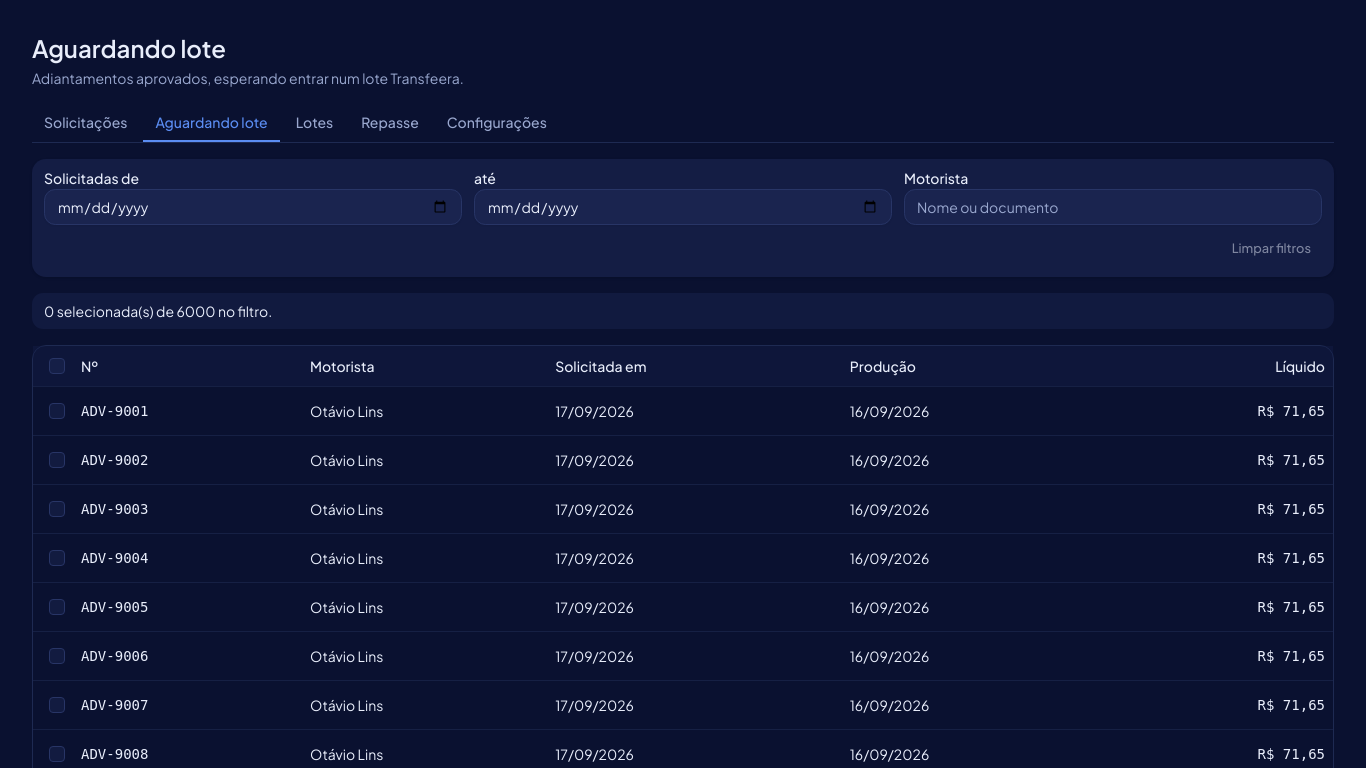
Test: AdiantamentosPagamentosPage › 7.6.1/edge #25: "selecionar todas do filtro" nunca ultrapassa 5.000 e avisa quando o filtro é maior
What coordinates should you click on to do the following:
click the checkbox named "Selecionar todas desta página"
I would click on:
 (57, 366)
Its box is [49,358,65,374].
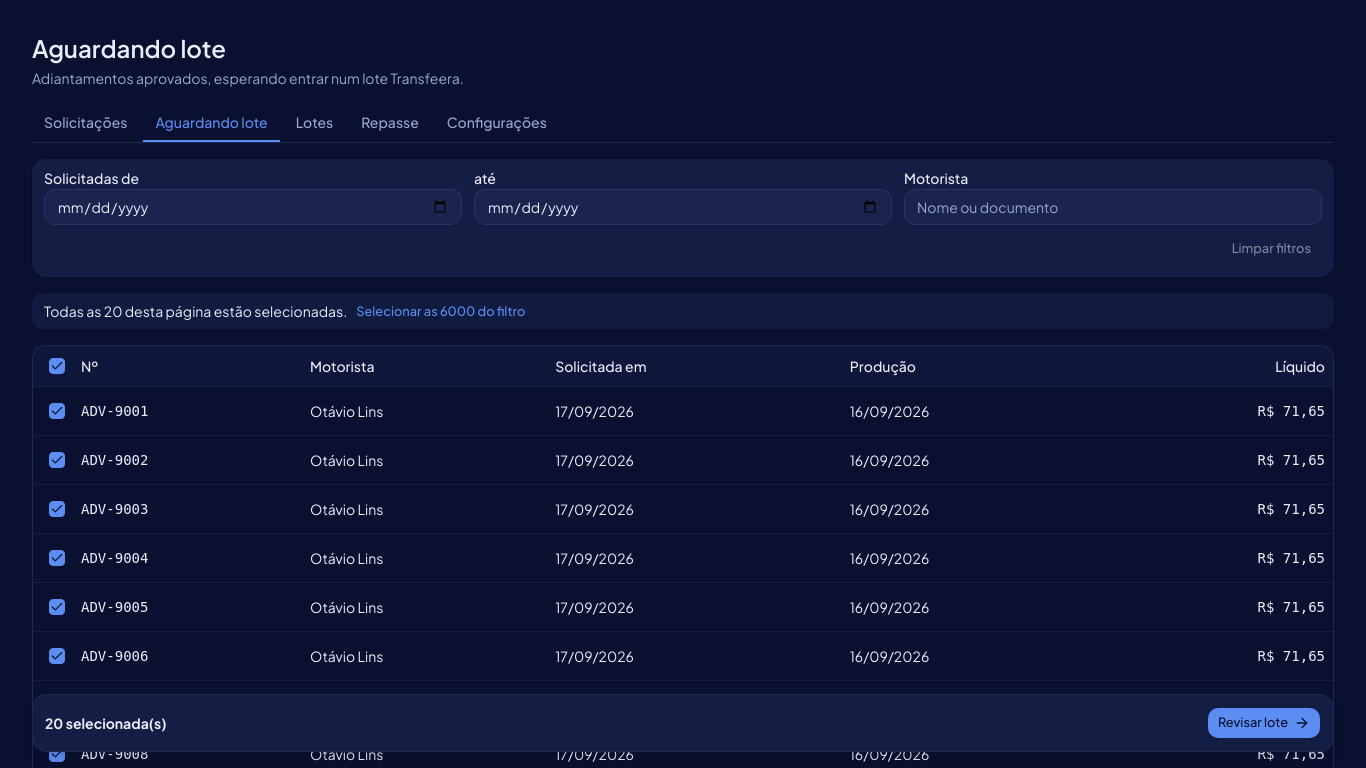
What coordinates should you click on to do the following:
click the button "Selecionar as 6000 do filtro"
I would click on:
 (441, 311)
Its box is [355,301,526,321].
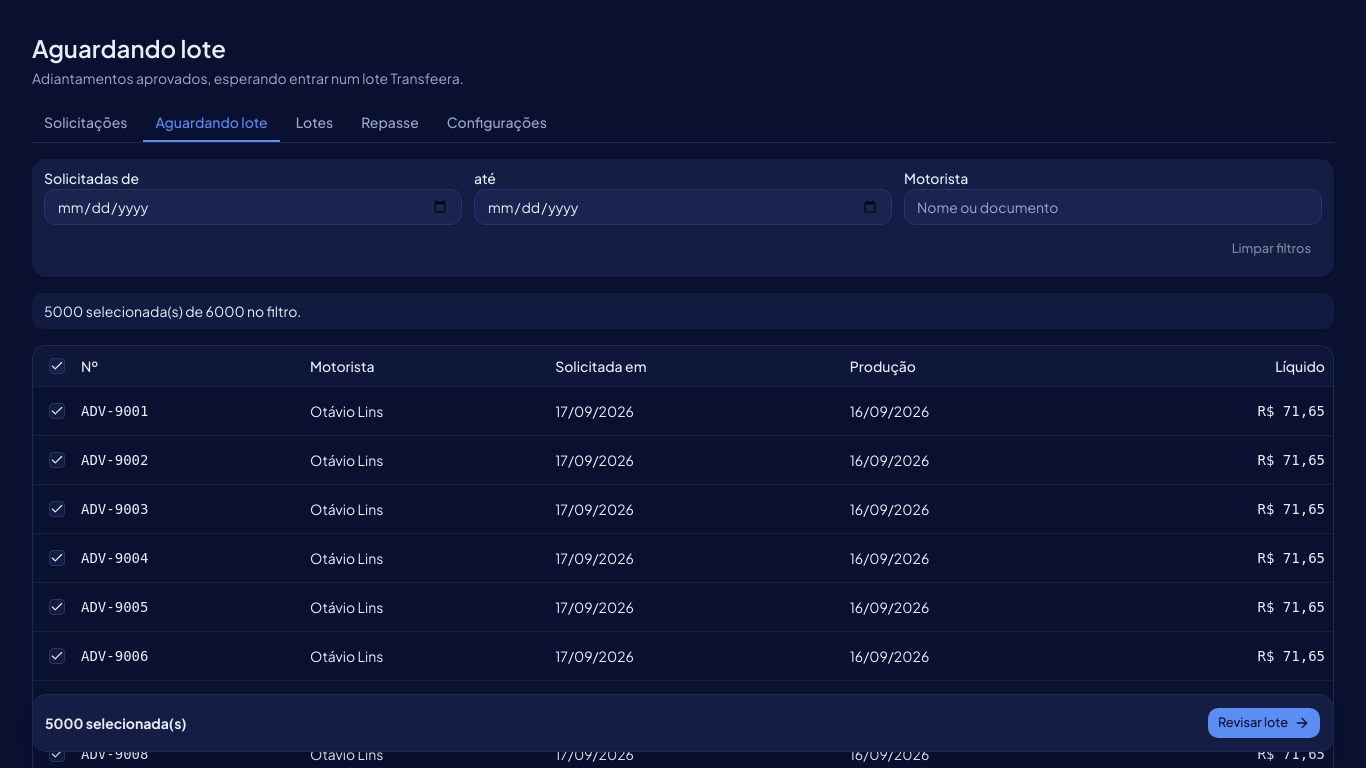
Result: the button "Revisar lote" is enabled at [1207,707,1321,739]
Result: the text "5000 selecionada(s)" is shown at [45,714,187,732]
What coordinates should you click on to do the following:
click the checkbox named "Selecionar todas desta página"
I would click on:
 (57, 366)
Its box is [49,358,65,374].
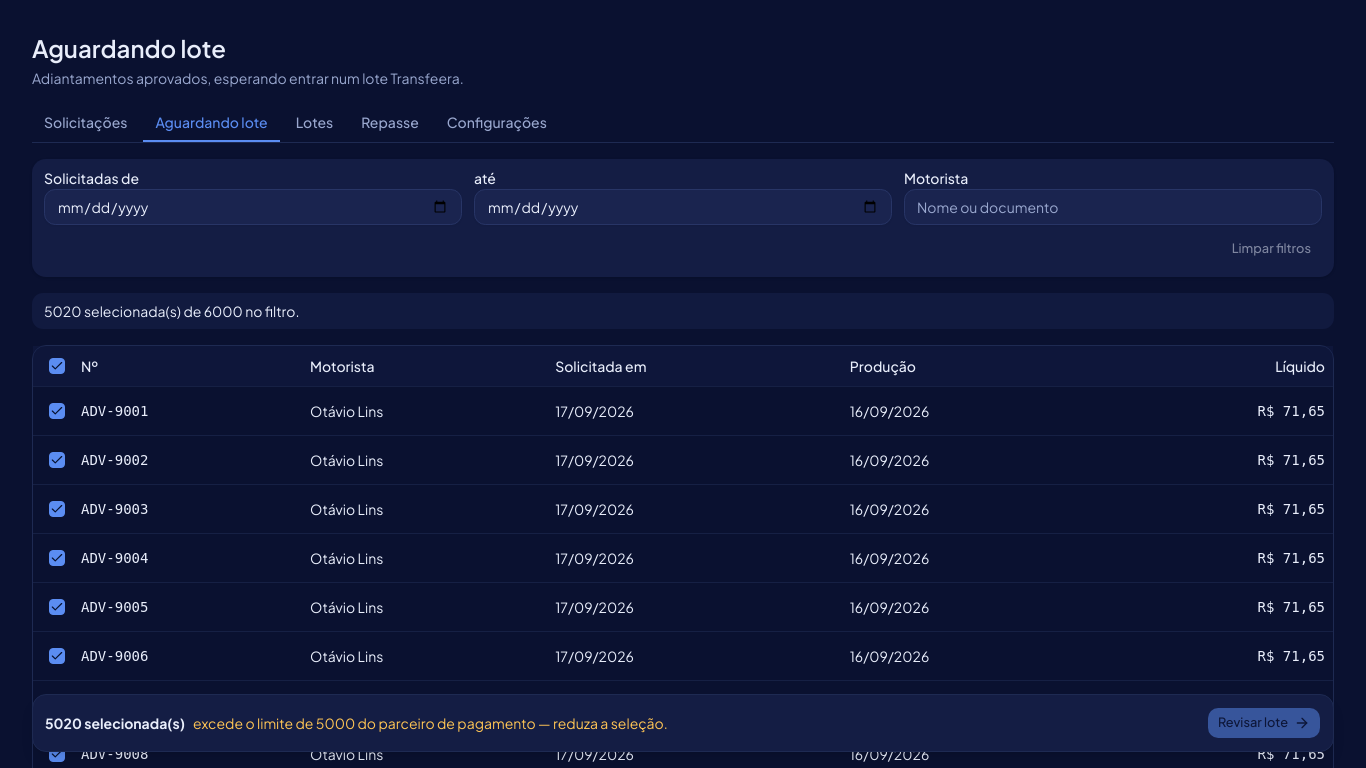
Result: the text "excede o limite de 5000" is shown at [193,714,668,732]
Result: the button "Revisar lote" is disabled at [1207,707,1321,739]
